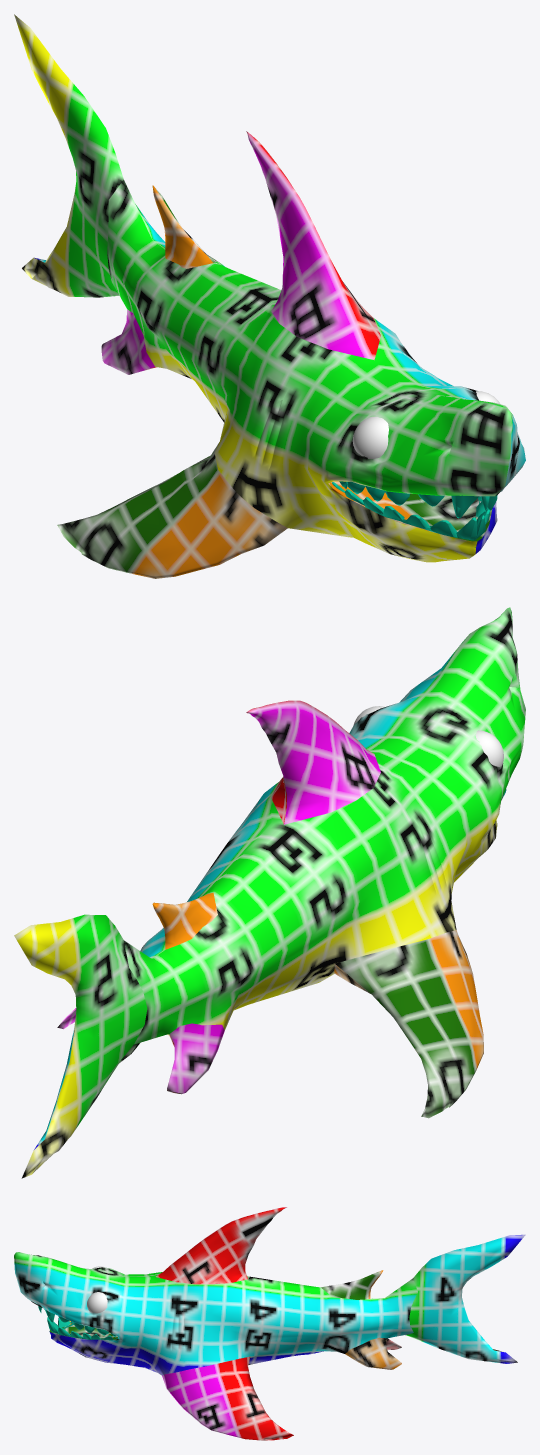
Rendered from shark model ver 5.FBX.
3 renders of one model, top to bottom at view 1: azimuth 30°, elevation 25°; view 2: azimuth 150°, elevation 25°; view 3: azimuth 270°, elevation 25°, orthographic. The views are drawn at different scales.
Parts seen in each view (by area): view 1: shark body, Object001, Sphere003; view 2: shark body; view 3: shark body, Object001, Sphere004.
Part boxes in pixels (bbox=[...]): shark body: bbox=[14, 14, 525, 578]; Object001: bbox=[332, 481, 497, 547]; Sphere003: bbox=[352, 416, 388, 458]; shark body: bbox=[14, 607, 525, 1178]; shark body: bbox=[14, 1207, 525, 1440]; Object001: bbox=[38, 1306, 117, 1340]; Sphere004: bbox=[87, 1292, 107, 1313].
Bounding box in the file's own units: 78.45 × 74.2 × 184.
Materials: 3 (1 with a texture image).
